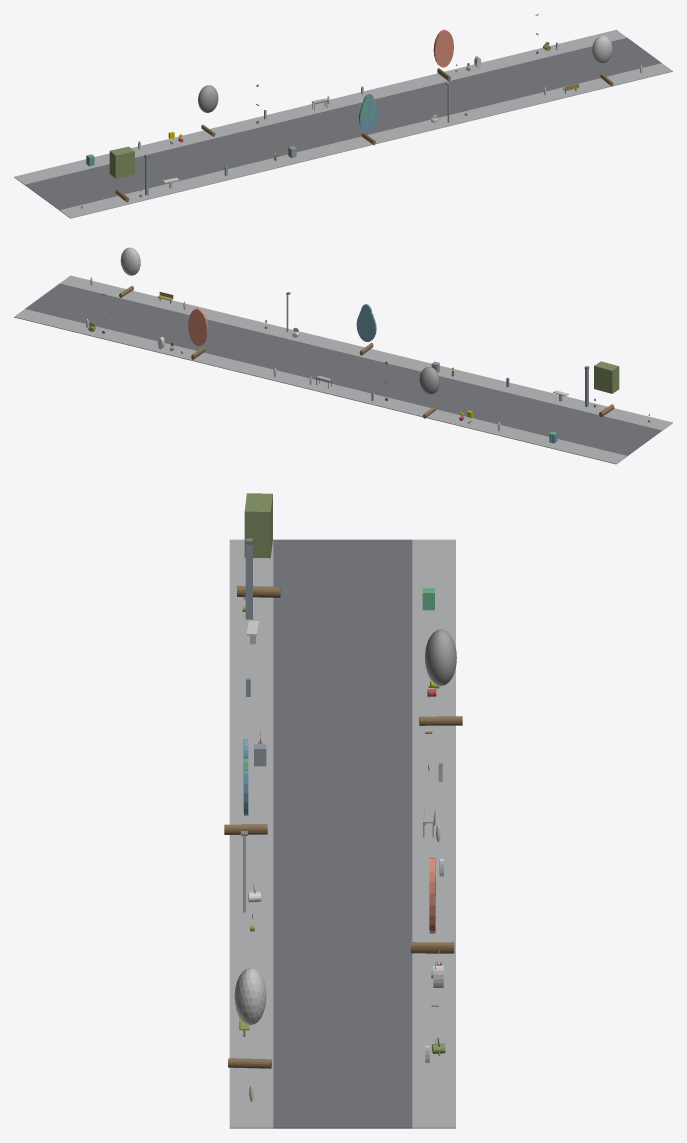
The picture shows the model from 3 angles, top to bottom: view 1: azimuth 30°, elevation 25°; view 2: azimuth 150°, elevation 25°; view 3: azimuth 270°, elevation 25°; orthographic projection. The views are drawn at different scales.
Parts seen in each view (by area): view 1: road_slab, sidewalk_left, sidewalk_right, inst_0012, inst_0015, inst_0014, inst_0016, inst_0013; view 2: road_slab, sidewalk_right, sidewalk_left, inst_0012, inst_0015, inst_0014, inst_0013, inst_0016; view 3: road_slab, sidewalk_right, sidewalk_left, inst_0012, inst_0016, inst_0013, inst_0015, inst_0014.
Boxes of the visible parts, bbox=[...] form: road_slab: bbox=[25, 37, 661, 210]; sidewalk_left: bbox=[59, 63, 672, 218]; sidewalk_right: bbox=[14, 29, 626, 184]; inst_0012: bbox=[109, 146, 134, 202]; inst_0015: bbox=[433, 29, 453, 81]; inst_0014: bbox=[359, 93, 378, 145]; inst_0016: bbox=[592, 35, 613, 86]; inst_0013: bbox=[198, 85, 218, 136]; road_slab: bbox=[25, 283, 661, 455]; sidewalk_right: bbox=[14, 309, 627, 464]; sidewalk_left: bbox=[60, 275, 672, 430]; inst_0012: bbox=[594, 361, 619, 417]; inst_0015: bbox=[188, 308, 208, 359]; inst_0014: bbox=[356, 304, 376, 355]; inst_0013: bbox=[419, 367, 439, 418]; inst_0016: bbox=[119, 247, 140, 297]; road_slab: bbox=[273, 539, 412, 1128]; sidewalk_right: bbox=[412, 539, 455, 1128]; sidewalk_left: bbox=[229, 539, 273, 1128]; inst_0012: bbox=[237, 493, 280, 597]; inst_0016: bbox=[228, 967, 271, 1068]; inst_0013: bbox=[419, 629, 462, 725]; inst_0015: bbox=[410, 857, 454, 953]; inst_0014: bbox=[224, 739, 267, 834].
Size of the model in its own units: 80 by 6.08 by 13.71.
